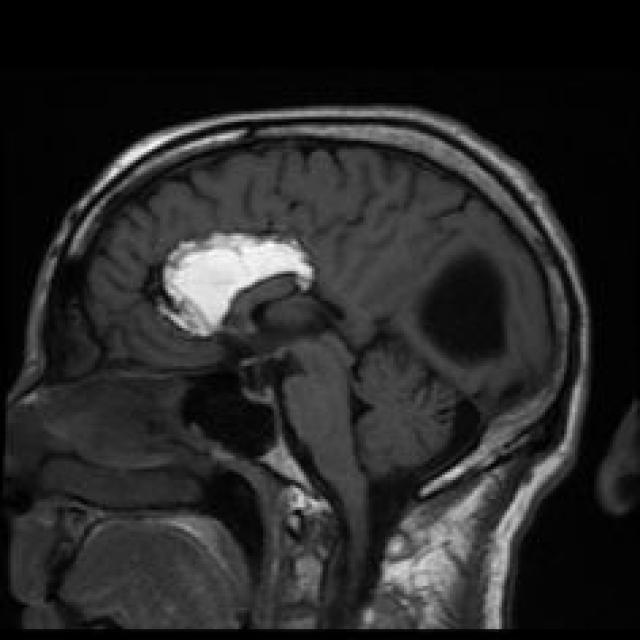glioma: (156, 226, 323, 332)
